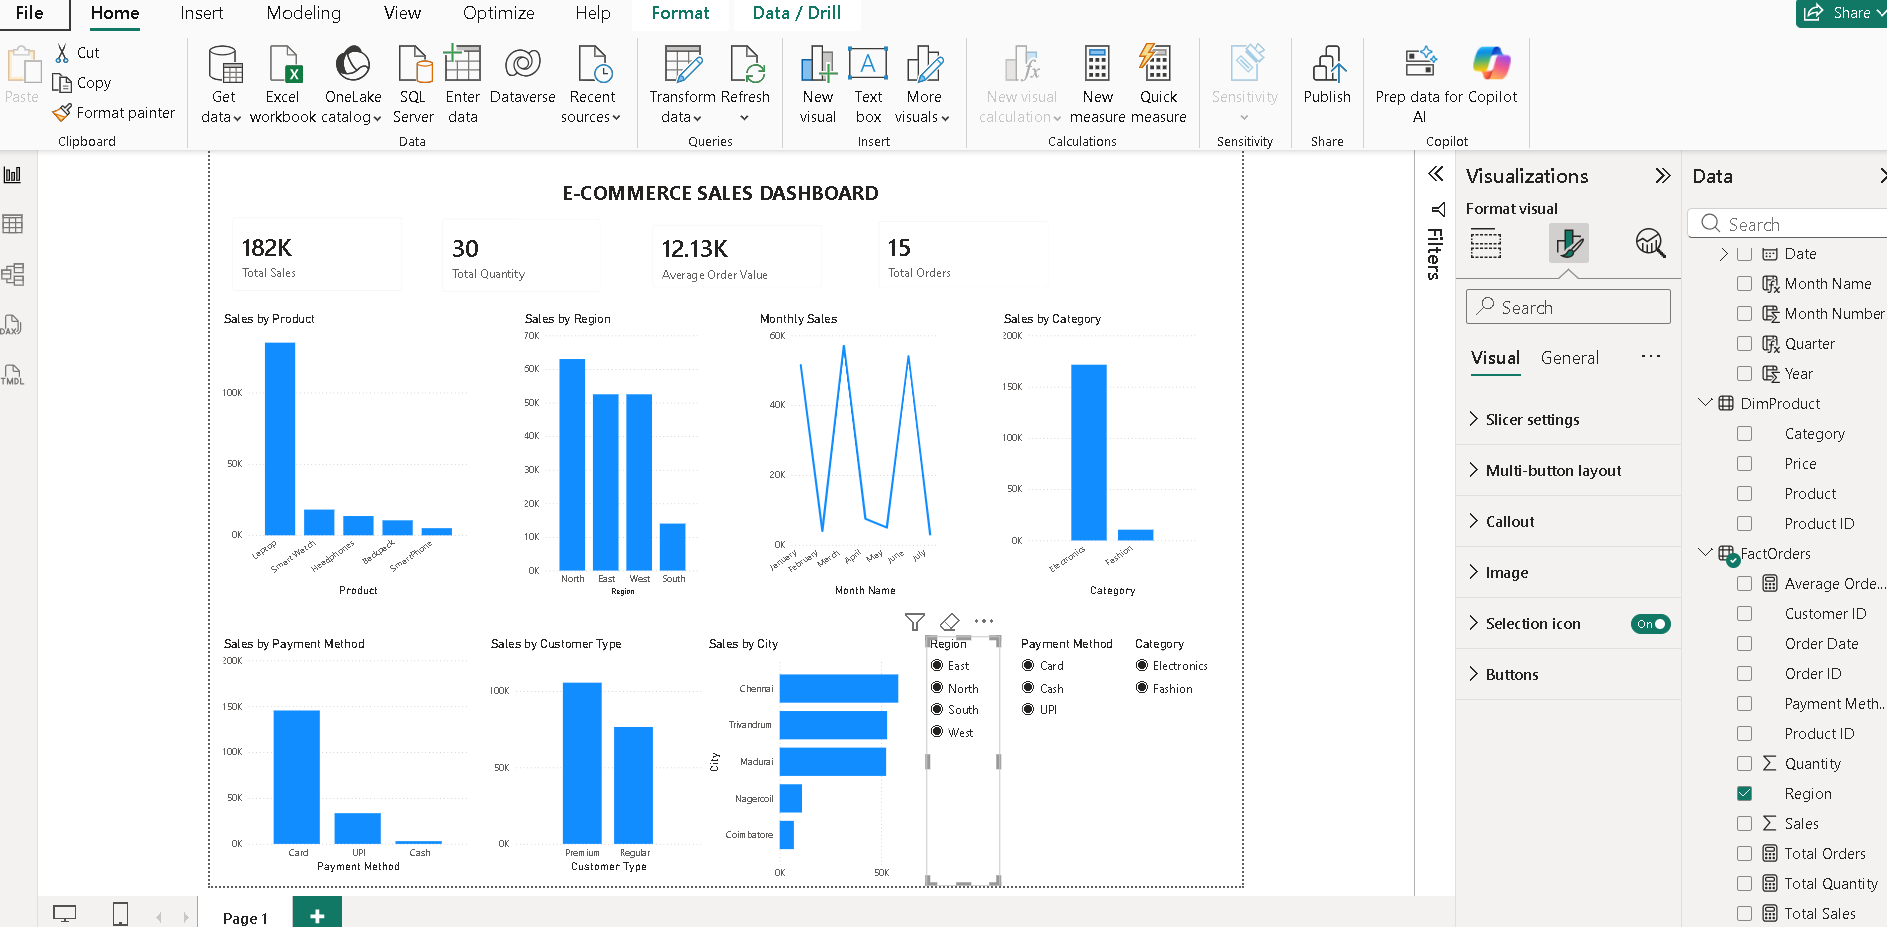

What the dashboard file says about the page in this screenshot:
{"tool":"powerbi","page":{"name":"Page 1","canvas":[1403,1001],"ordinal":0},"visuals":[{"type":"cardVisual","fields":{"Data":["FactOrders.Total Sales"]},"box":[13.6,74.8,265.2,134.3],"z":0},{"type":"cardVisual","fields":{"Data":["FactOrders.Total Quantity"]},"box":[299.2,76.5,249.9,134.3],"z":1},{"type":"cardVisual","fields":{"Data":["FactOrders.Average Order Value"]},"box":[584.8,85,265.2,119],"z":2},{"type":"cardVisual","fields":{"Data":["FactOrders.Total Orders"]},"box":[892.5,79.9,265.2,124.1],"z":3},{"type":"textbox","box":[414.4,34.3,558.5,60.4],"z":4},{"type":"columnChart","title":" Sales by Product","fields":{"Category":["DimProduct.Product"],"Y":["FactOrders.Total Sales"]},"box":[13.6,219.3,343.4,392.7],"z":5},{"type":"columnChart","title":" Sales by Category","fields":{"Category":["DimProduct.Category"],"Y":["FactOrders.Total Sales"]},"box":[1074.4,219.3,273.7,392.7],"z":6},{"type":"columnChart","title":" Sales by Region","fields":{"Category":["FactOrders.Region"],"Y":["FactOrders.Total Sales"]},"box":[423.3,219.3,248.2,392.7],"z":7},{"type":"lineChart","title":"Monthly Sales","fields":{"Y":["FactOrders.Total Sales"],"Category":["DimDate.Month Name"]},"box":[742.9,219.3,253.3,392.7],"z":8},{"type":"columnChart","title":" Sales by Payment Method","fields":{"Category":["FactOrders.Payment Method"],"Y":["FactOrders.Total Sales"]},"box":[13.6,661.3,343.4,326.4],"z":9},{"type":"columnChart","title":" Sales by Customer Type","fields":{"Category":["DimCustomer.Customer Type"],"Y":["FactOrders.Total Sales"]},"box":[377.4,661.3,295.8,326.4],"z":10},{"type":"listSlicer","fields":{"Values":["FactOrders.Region"]},"box":[974.1,661.3,100.3,340],"z":11},{"type":"clusteredBarChart","title":" Sales by City","fields":{"Category":["DimCustomer.City"],"Y":["FactOrders.Total Sales"]},"box":[673.2,661.3,282.2,340],"z":12},{"type":"listSlicer","fields":{"Values":["FactOrders.Payment Method"]},"box":[1098.2,661.3,154.7,340],"z":13},{"type":"listSlicer","fields":{"Values":["DimProduct.Category"]},"box":[1253,661.3,122.4,340],"z":14}]}

Visuals, with their boxes on the page's 1403x1001 design canvas (x1, y1, x2, y2). These are canvas units, not pixel positions in the 1887x927 screenshot, which may show the page scaled, cropped or inside an application window:
cardVisual - FactOrders.Total Sales: BBox(14, 75, 279, 209)
cardVisual - FactOrders.Total Quantity: BBox(299, 76, 549, 211)
cardVisual - FactOrders.Average Order Value: BBox(585, 85, 850, 204)
cardVisual - FactOrders.Total Orders: BBox(892, 80, 1158, 204)
textbox: BBox(414, 34, 973, 95)
" Sales by Product" columnChart: BBox(14, 219, 357, 612)
" Sales by Category" columnChart: BBox(1074, 219, 1348, 612)
" Sales by Region" columnChart: BBox(423, 219, 672, 612)
"Monthly Sales" lineChart: BBox(743, 219, 996, 612)
" Sales by Payment Method" columnChart: BBox(14, 661, 357, 988)
" Sales by Customer Type" columnChart: BBox(377, 661, 673, 988)
listSlicer - FactOrders.Region: BBox(974, 661, 1074, 1001)
" Sales by City" clusteredBarChart: BBox(673, 661, 955, 1001)
listSlicer - FactOrders.Payment Method: BBox(1098, 661, 1253, 1001)
listSlicer - DimProduct.Category: BBox(1253, 661, 1375, 1001)
